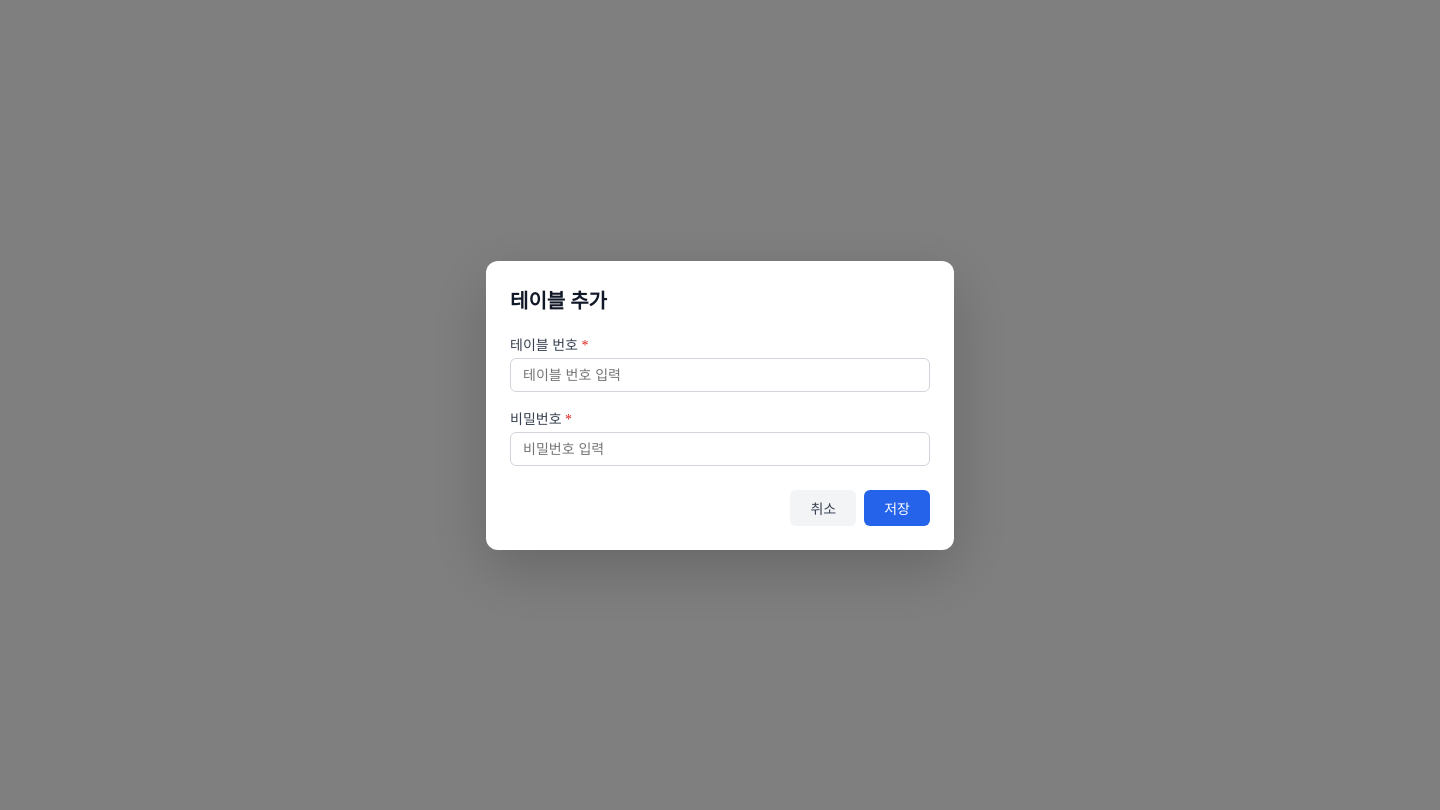
Test: TableForm — 등록 모드 (table=null) › 비밀번호 없이 제출 시 유효성 에러를 표시한다
The image size is (1440, 810).
Note: 테이블 번호만 입력
Type "1" into the number field with test id "table-number-input" at (720, 374), box [510,358,930,392]
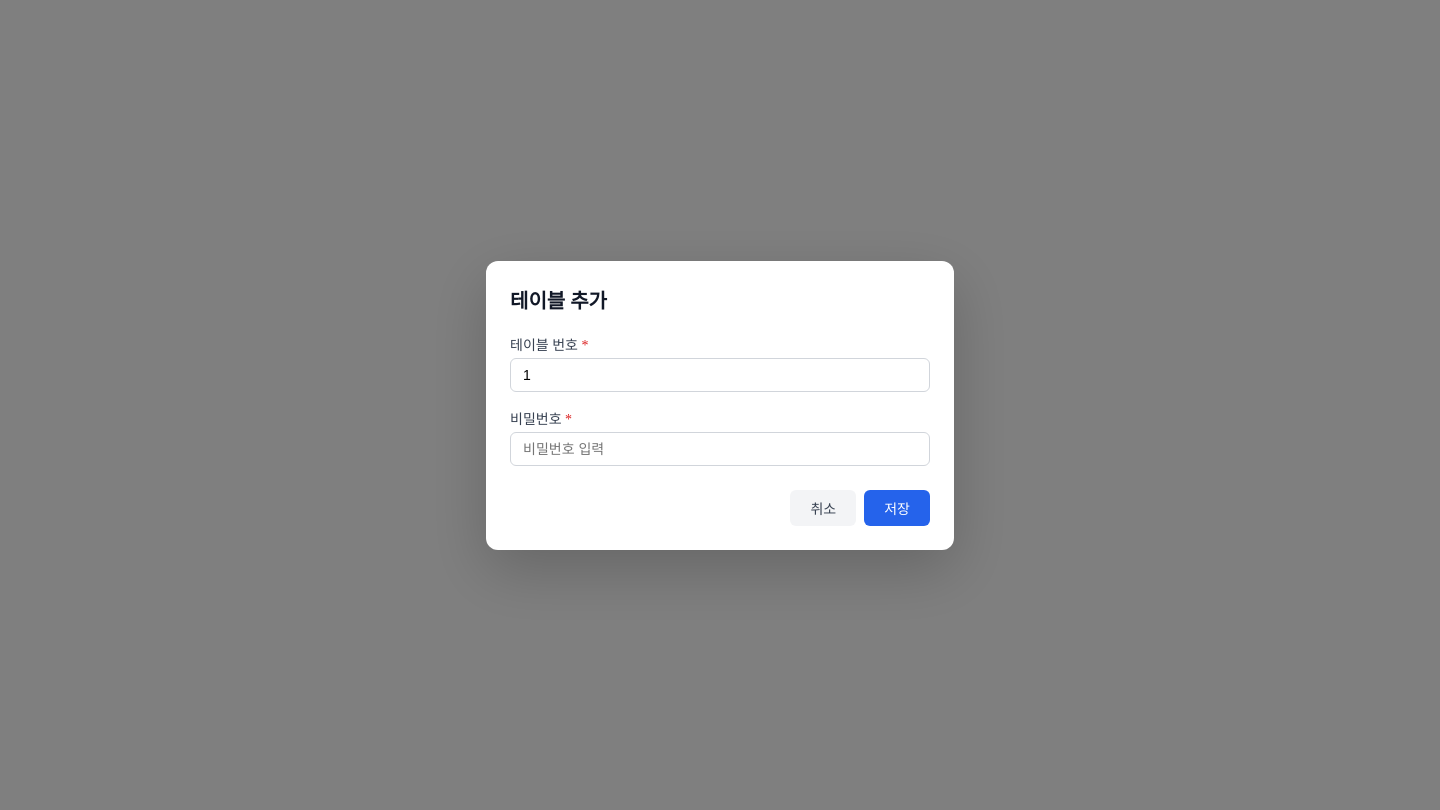
Click the button with test id "table-form-submit-button" at (897, 508), box [864,490,930,526]
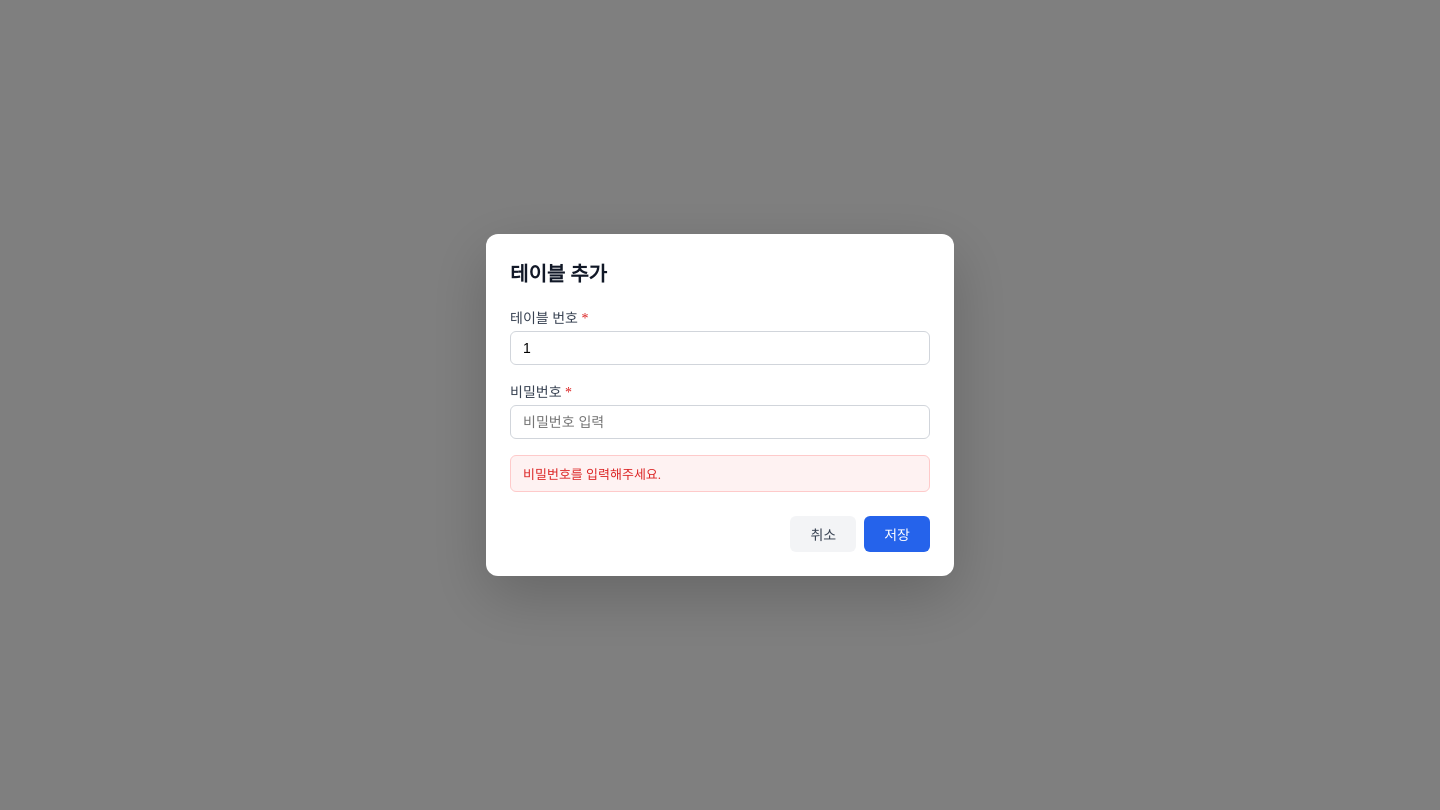
expect the text with test id "table-form-error" shows "비밀번호를 입력해주세요": met, box [523,467,661,482]
